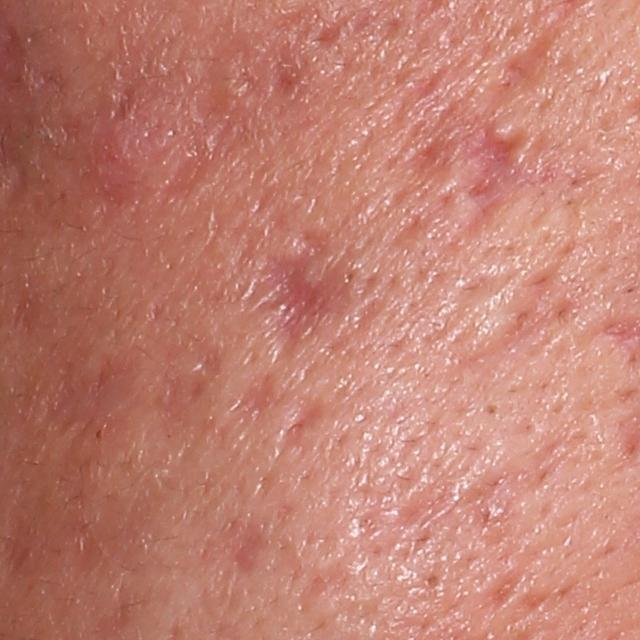atrophic_scar: (1, 58, 123, 247), (166, 16, 270, 196), (394, 109, 546, 196), (250, 227, 361, 345), (14, 340, 141, 442), (468, 258, 584, 350), (154, 340, 218, 423), (332, 277, 397, 352), (462, 471, 515, 540), (221, 504, 272, 574), (222, 366, 282, 412), (270, 396, 326, 442), (272, 47, 310, 101), (314, 9, 356, 47), (391, 218, 428, 250), (490, 569, 521, 605)
comedo: (396, 61, 447, 120), (484, 401, 501, 419)
